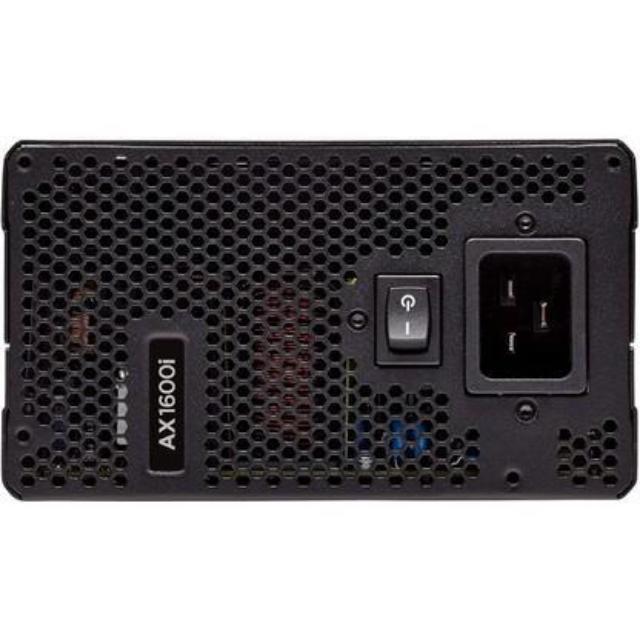PSU: (0, 113, 640, 538)
